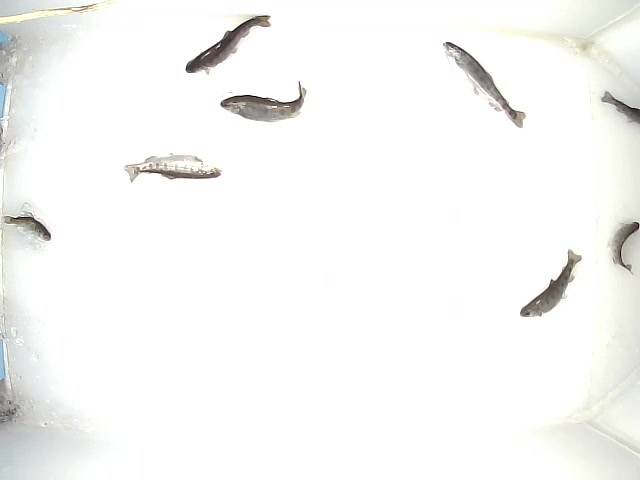fish: (442, 41, 528, 127), (185, 12, 273, 77), (518, 247, 586, 323), (219, 77, 310, 124), (122, 151, 222, 184), (608, 219, 640, 275), (1, 211, 54, 243)
